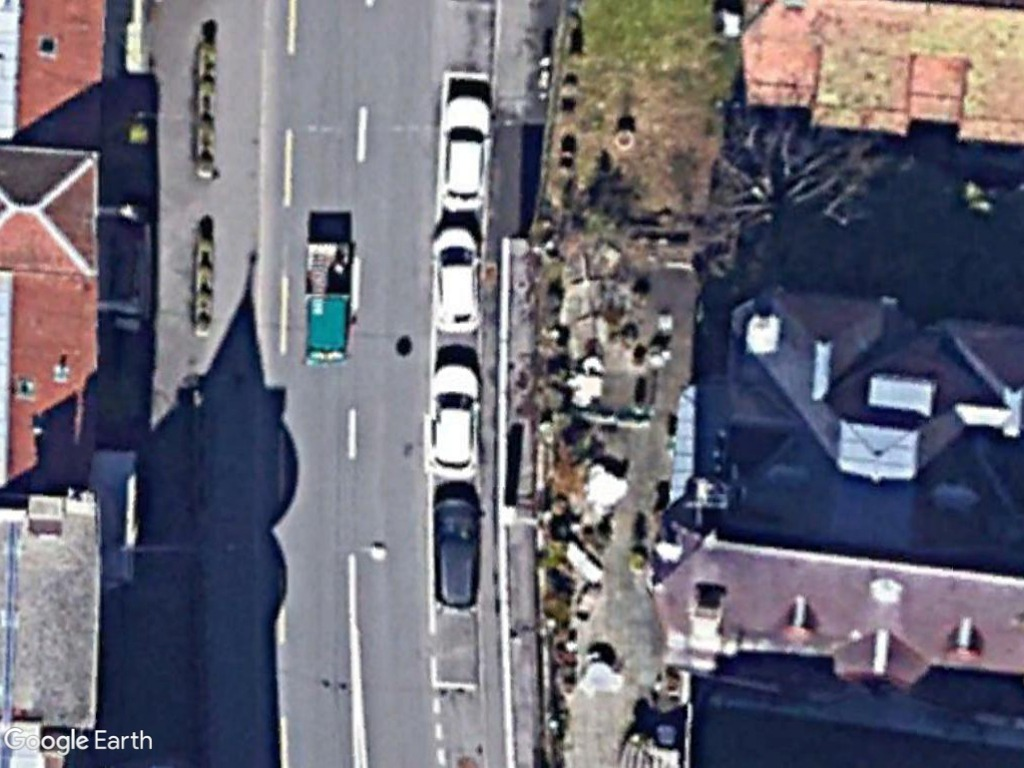car: (438, 91, 496, 215), (429, 493, 487, 616), (429, 360, 484, 482), (431, 224, 488, 338)
